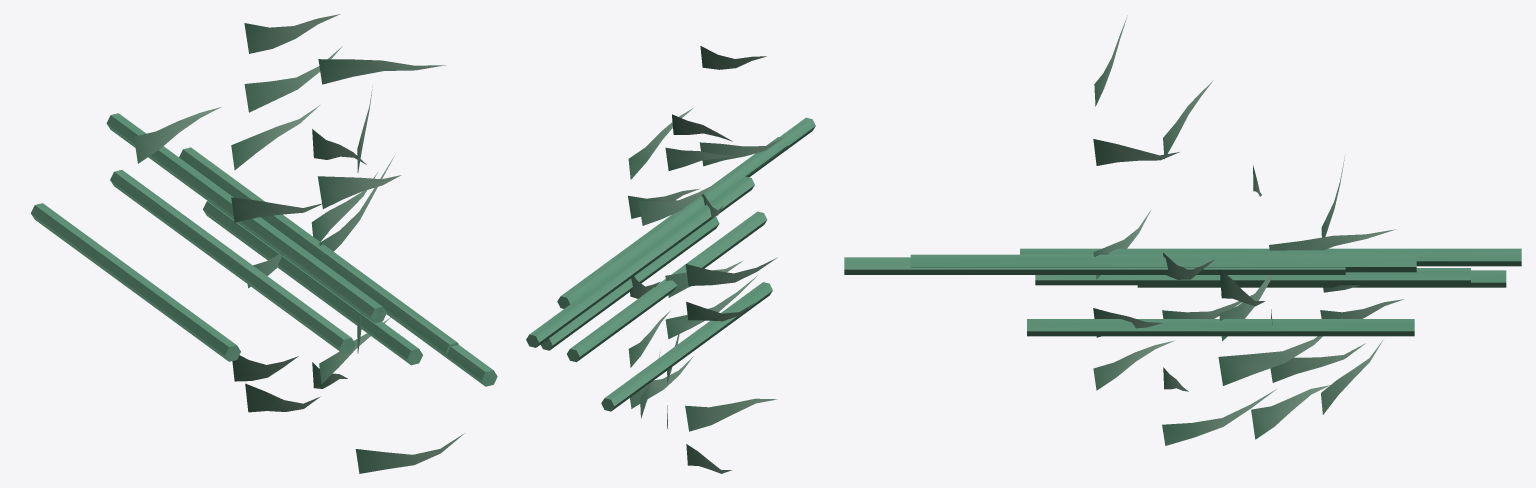
The model's file is mesh-plant-044-redstem-weed_LOD1.glb.
The picture shows the model from 3 angles, left to right: view 1: azimuth 30°, elevation 25°; view 2: azimuth 150°, elevation 25°; view 3: azimuth 270°, elevation 25°; orthographic projection. The views are drawn at different scales.
Parts seen in each view (by area): view 1: geometry_0; view 2: geometry_0; view 3: geometry_0.
Part boxes in pixels (x1,y1,x2,y2): geometry_0: (31, 14, 497, 473); geometry_0: (526, 46, 815, 473); geometry_0: (844, 15, 1521, 445).
Bounding box in the file's own units: 0.8091 × 1.01 × 1.54.
